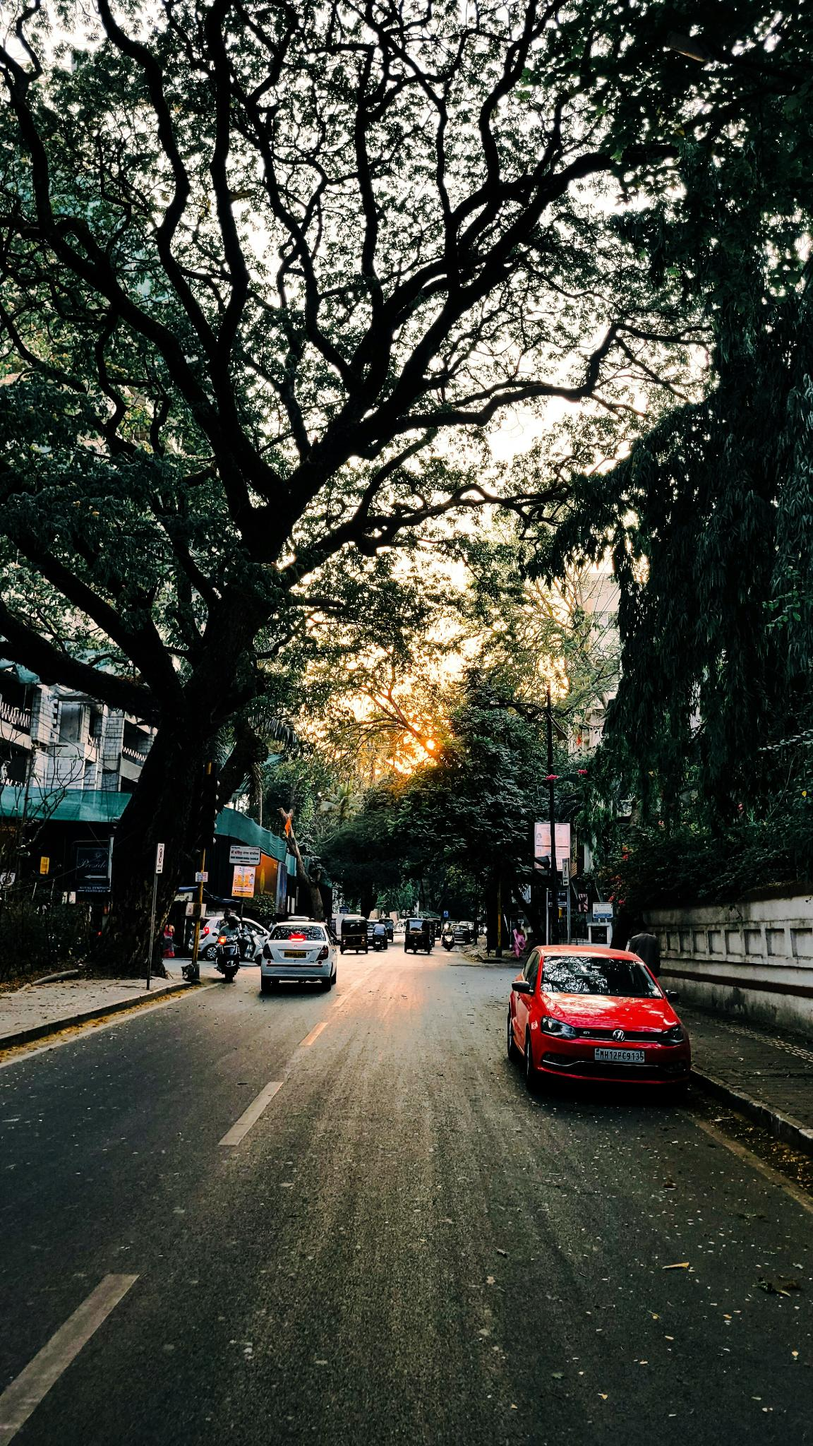car: (500, 949, 704, 1102), (255, 915, 348, 990)
